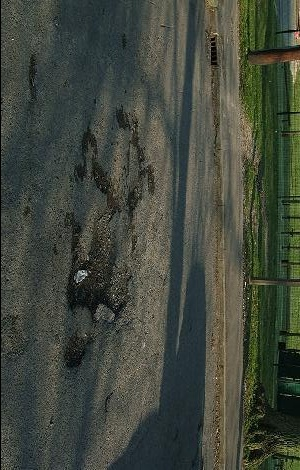pothole: (64, 214, 136, 322), (92, 158, 122, 214), (62, 328, 91, 372)
